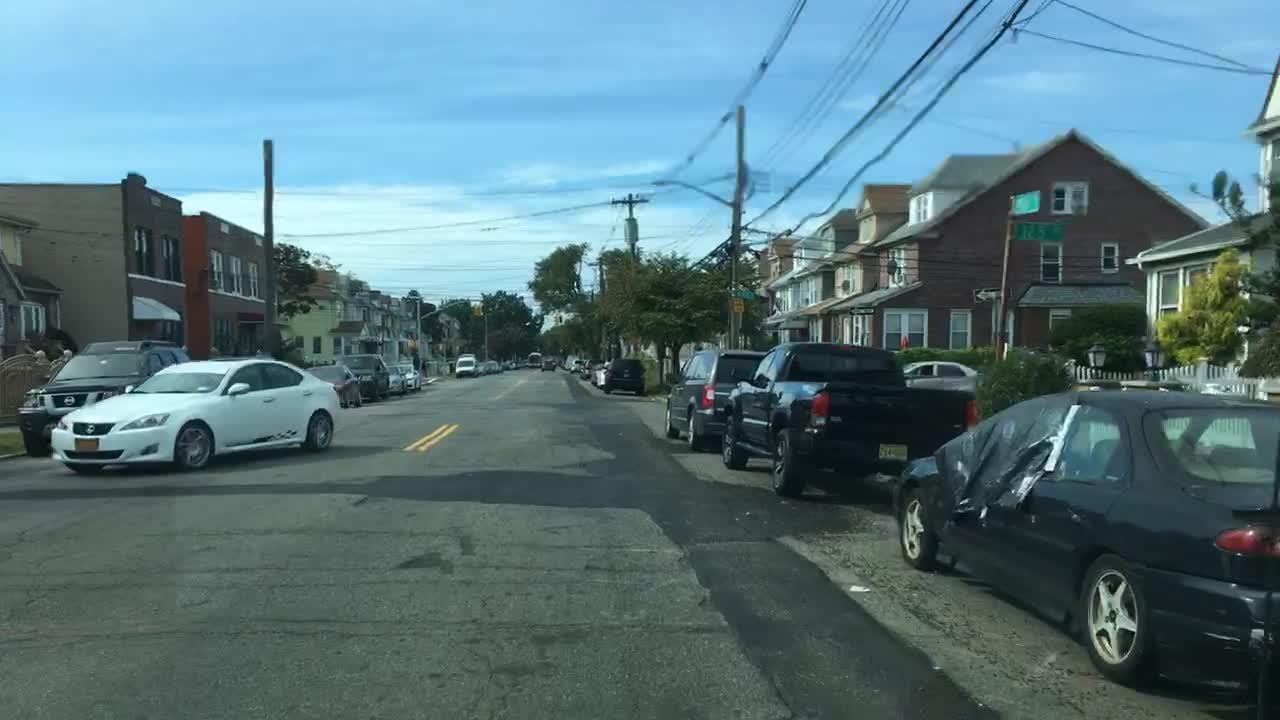Nissan: (61, 392, 77, 410)
